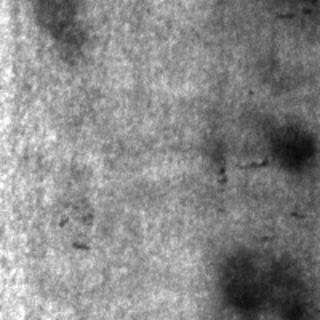patches: (216, 244, 314, 316), (261, 118, 317, 174), (35, 0, 81, 50)
